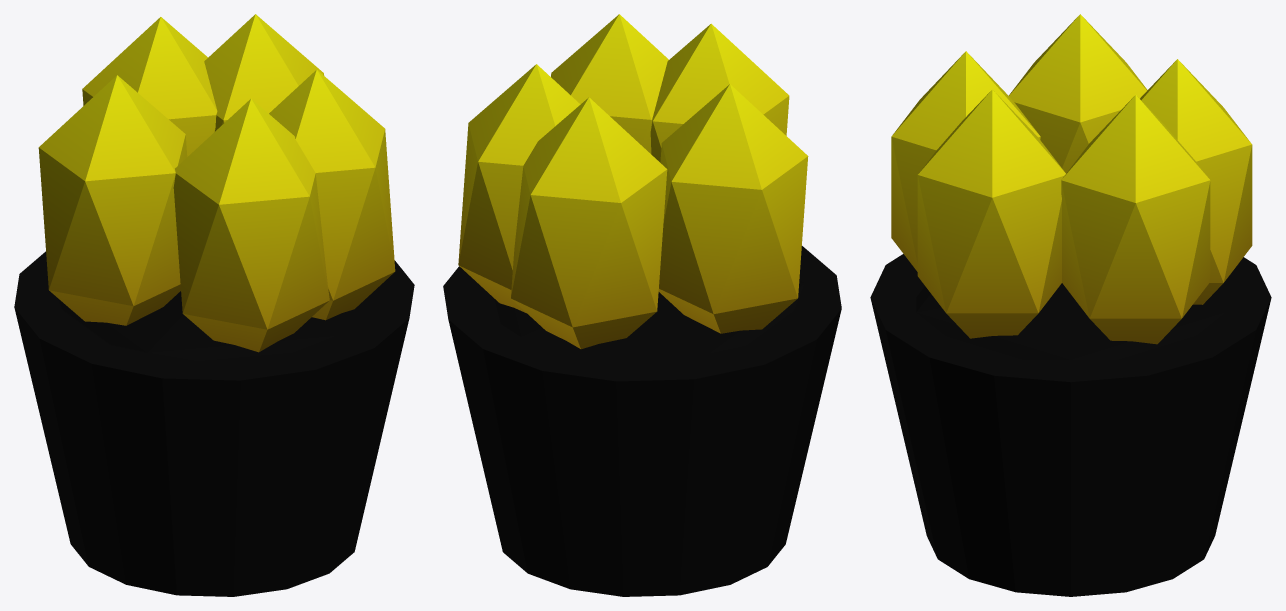
File: pot.glb
3 views of the same model, side by side, from view 1: azimuth 30°, elevation 25°; view 2: azimuth 150°, elevation 25°; view 3: azimuth 270°, elevation 25° (orthographic).
Visible parts, largest first — view 1: pot_body, leaves_pot.004, leaves_pot.002, leaves_pot.001, leaves_pot, leaves_pot.003, soil_cap; view 2: pot_body, leaves_pot, leaves_pot.002, leaves_pot.003, leaves_pot.001, leaves_pot.004, soil_cap; view 3: pot_body, leaves_pot.003, leaves_pot.001, leaves_pot, leaves_pot.002, soil_cap, leaves_pot.004.
Part boxes in pixels (left/top/right/bottom): pot_body: left=14, top=251, right=414, bottom=596; leaves_pot.004: left=173, top=98, right=329, bottom=352; leaves_pot.002: left=38, top=75, right=187, bottom=325; leaves_pot.001: left=269, top=69, right=395, bottom=320; leaves_pot: left=82, top=17, right=217, bottom=156; leaves_pot.003: left=204, top=14, right=324, bottom=131; soil_cap: left=58, top=291, right=361, bottom=361; pot_body: left=443, top=246, right=841, bottom=596; leaves_pot: left=511, top=97, right=667, bottom=349; leaves_pot.002: left=658, top=84, right=808, bottom=333; leaves_pot.003: left=458, top=64, right=580, bottom=312; leaves_pot.001: left=551, top=14, right=668, bottom=153; leaves_pot.004: left=650, top=23, right=789, bottom=162; soil_cap: left=494, top=280, right=804, bottom=362; pot_body: left=870, top=254, right=1271, bottom=596; leaves_pot.003: left=1061, top=95, right=1210, bottom=344; leaves_pot.001: left=917, top=89, right=1065, bottom=338; leaves_pot: left=1140, top=59, right=1252, bottom=304; leaves_pot.002: left=1009, top=14, right=1147, bottom=173; soil_cap: left=916, top=283, right=1225, bottom=359; leaves_pot.004: left=891, top=51, right=1040, bottom=271.
Bounding box in the file's own units: 0.64 × 0.84 × 0.64.
